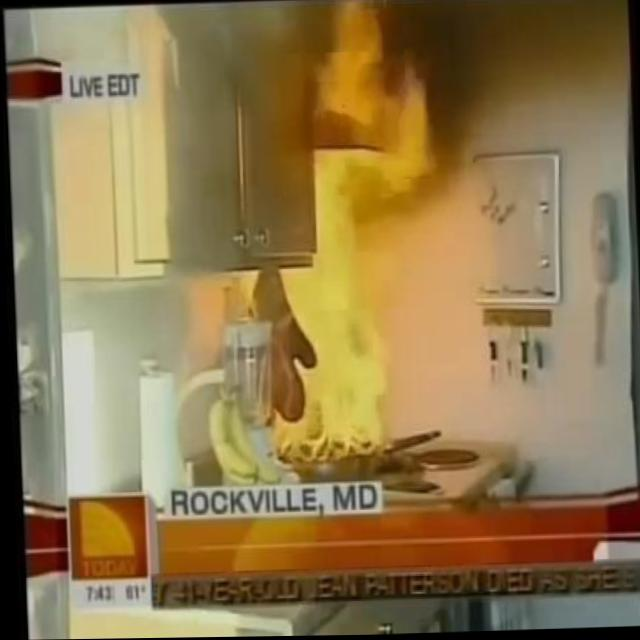fire: (234, 0, 447, 458)
